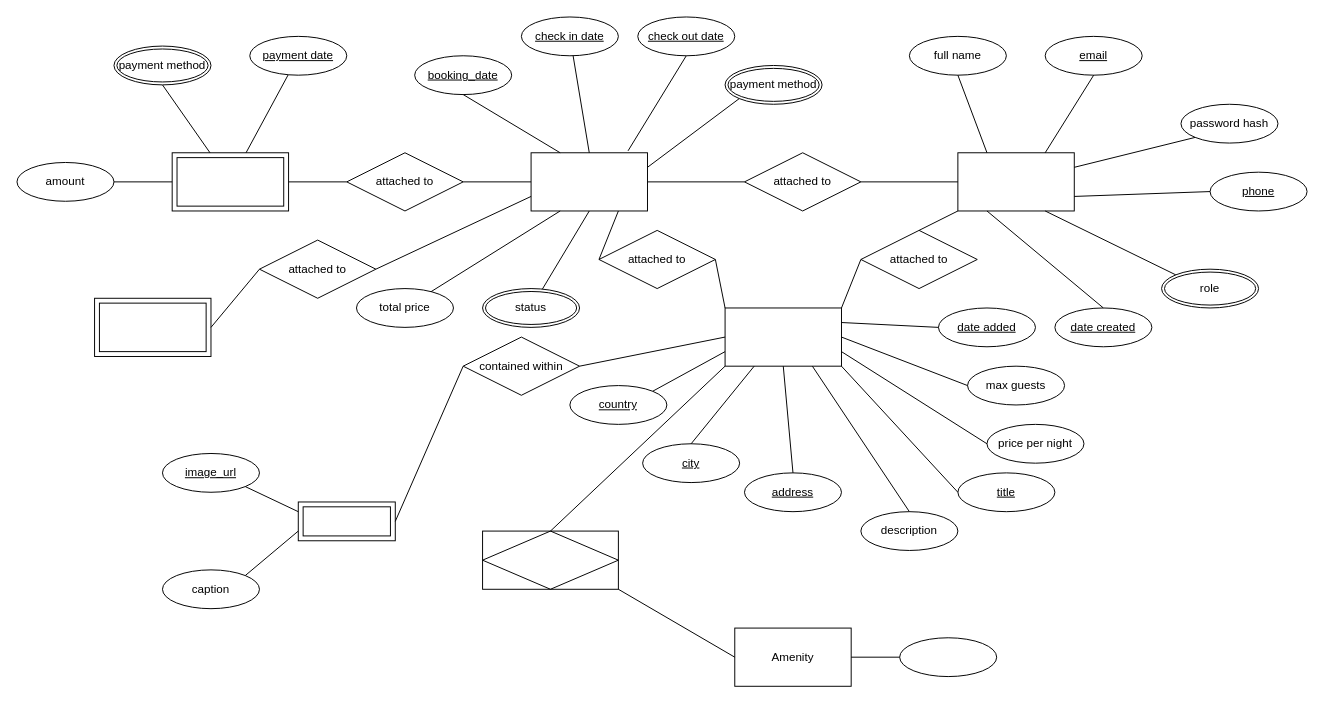
Some shapes in this 1324 by 703 pixel diagram are drawn without their labels. Here are the shapes that lost their labels. From the top down, the box of each, then its label:
(171, 152, 289, 211): Payment
(530, 152, 647, 211): Booking
(957, 152, 1074, 211): User
(94, 297, 211, 356): Review
(724, 307, 841, 366): Property
(297, 501, 395, 541): Property Image
(482, 530, 618, 589): Property Amenity
(899, 637, 997, 677): name
